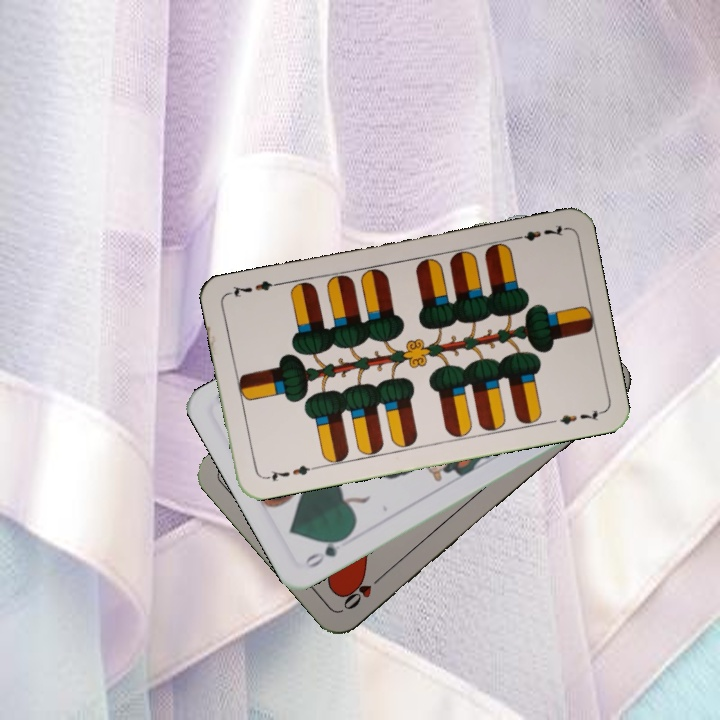E7: (509, 220, 568, 244), (260, 461, 319, 484)
GO: (300, 531, 352, 571)
HO: (339, 569, 387, 613)
